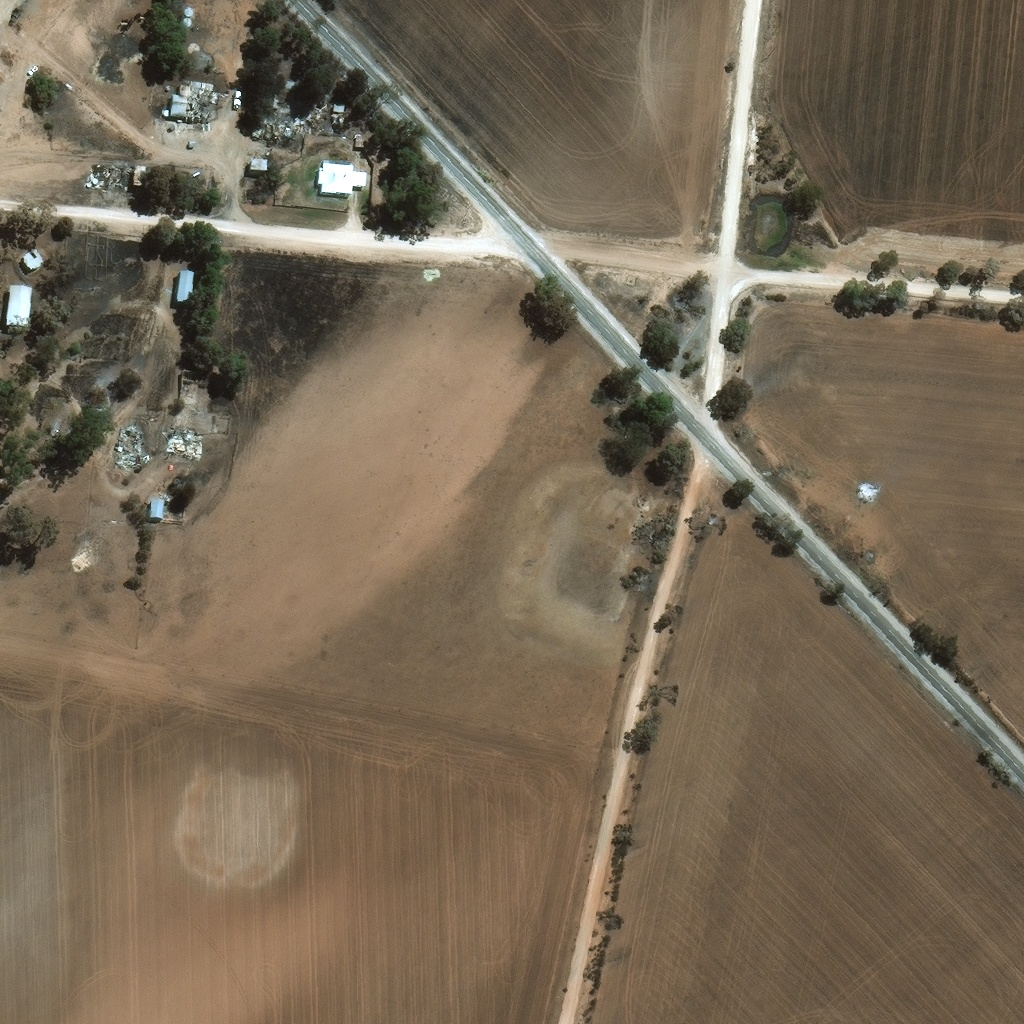0 no-damage: (317, 159, 367, 194), (175, 269, 195, 302), (149, 498, 164, 517), (249, 158, 267, 171), (190, 37, 200, 46), (183, 7, 193, 16), (182, 18, 191, 25)
1 minor-damage: (5, 284, 31, 326), (23, 246, 43, 266), (274, 94, 294, 109), (355, 133, 365, 146)
2 major-damage: (170, 79, 214, 119), (333, 100, 344, 118)
3 destroyed: (99, 159, 146, 185), (167, 427, 197, 455), (117, 427, 139, 463), (252, 118, 280, 136), (280, 114, 310, 129)
